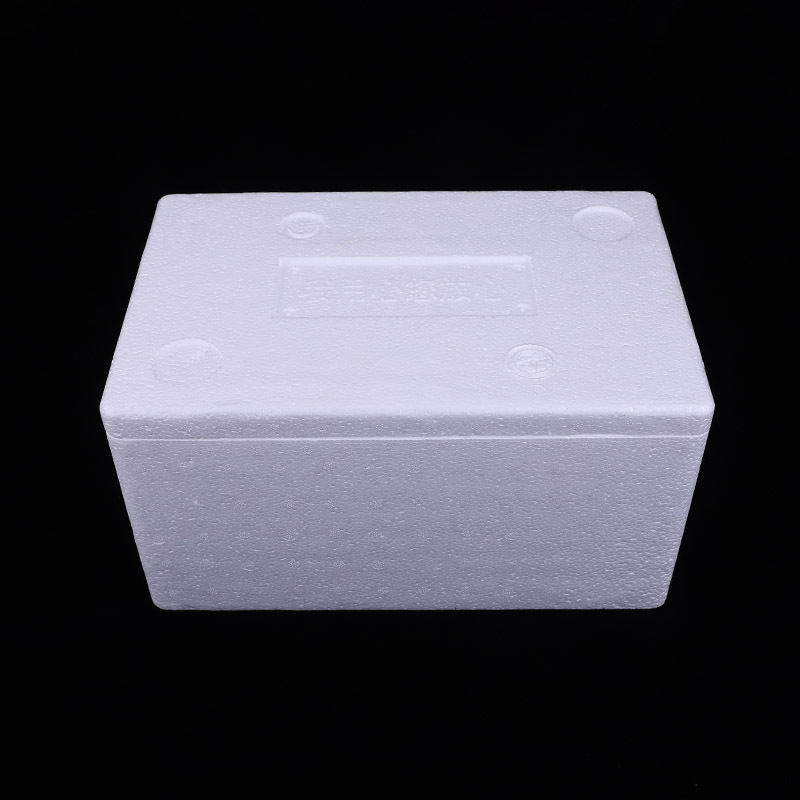Boxes: (101, 192, 712, 610)
